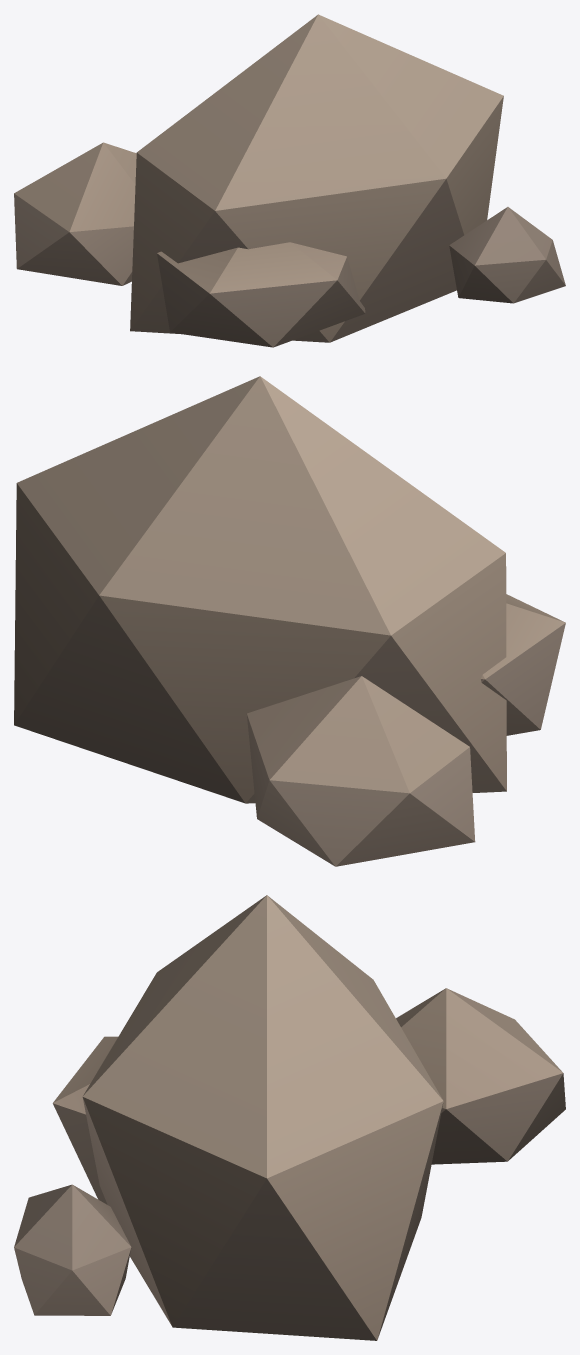
File: rocks_4.glb
The picture shows the model from 3 angles, top to bottom: view 1: azimuth 30°, elevation 25°; view 2: azimuth 150°, elevation 25°; view 3: azimuth 270°, elevation 25°; orthographic projection. The views are drawn at different scales.
Parts seen in each view (by area): view 1: rocks_4; view 2: rocks_4; view 3: rocks_4.
Part boxes in pixels (box(x1,y1,x2,y2)): rocks_4: box(14, 14, 565, 347); rocks_4: box(14, 376, 565, 866); rocks_4: box(14, 895, 565, 1340).
Bounding box in the file's own units: 4.34 × 2.68 × 3.8.
